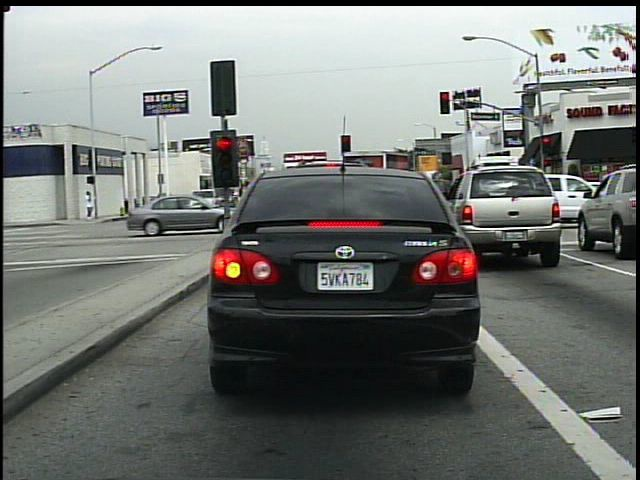person: (82, 189, 95, 219)
